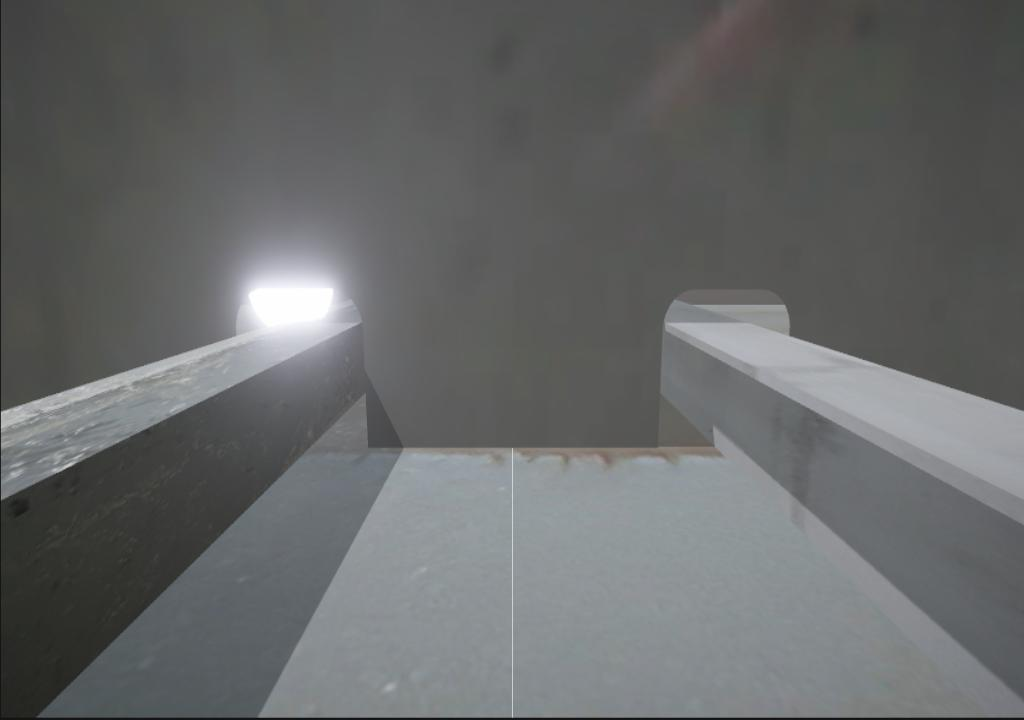fillet_yong_jeop_jang: (359, 431, 668, 464)
